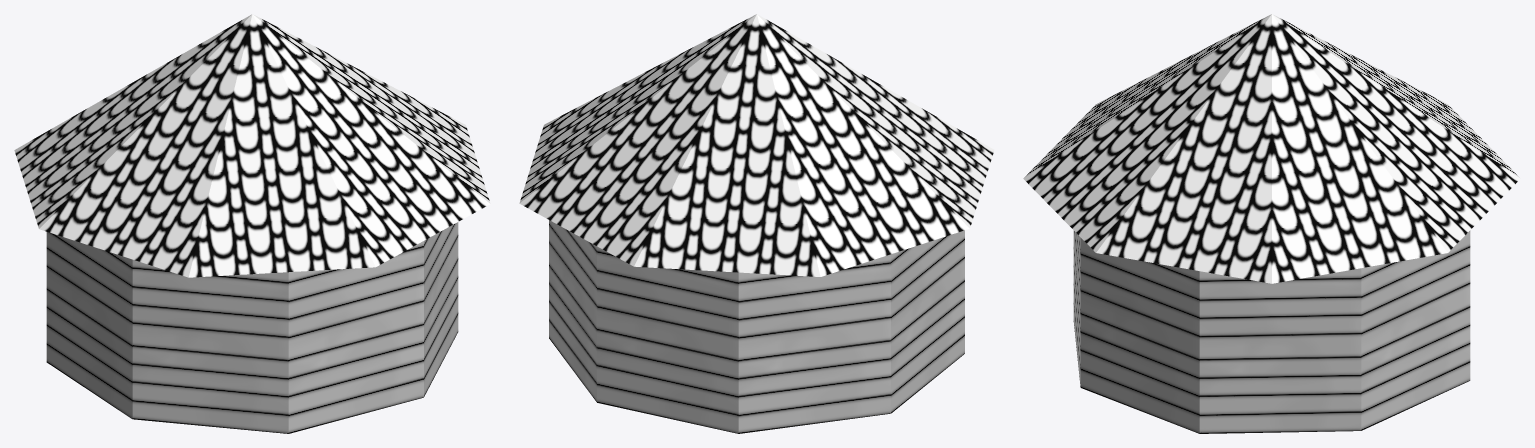
File: gongon_Orchouse.fbx
The picture shows the model from 3 angles, left to right: view 1: azimuth 30°, elevation 25°; view 2: azimuth 150°, elevation 25°; view 3: azimuth 270°, elevation 25°; orthographic projection.
Parts seen in each view (by area): view 1: OrcHouseTop, OrcHouseBody; view 2: OrcHouseTop, OrcHouseBody; view 3: OrcHouseTop, OrcHouseBody.
Boxes of the visible parts, x1,y1,x2,y2 form: OrcHouseTop: (14, 14, 490, 277); OrcHouseBody: (46, 222, 458, 433); OrcHouseTop: (519, 14, 994, 276); OrcHouseBody: (549, 220, 964, 433); OrcHouseTop: (1023, 14, 1520, 283); OrcHouseBody: (1073, 230, 1470, 433).
Bounding box in the file's own units: 1757 × 1309 × 1757.
